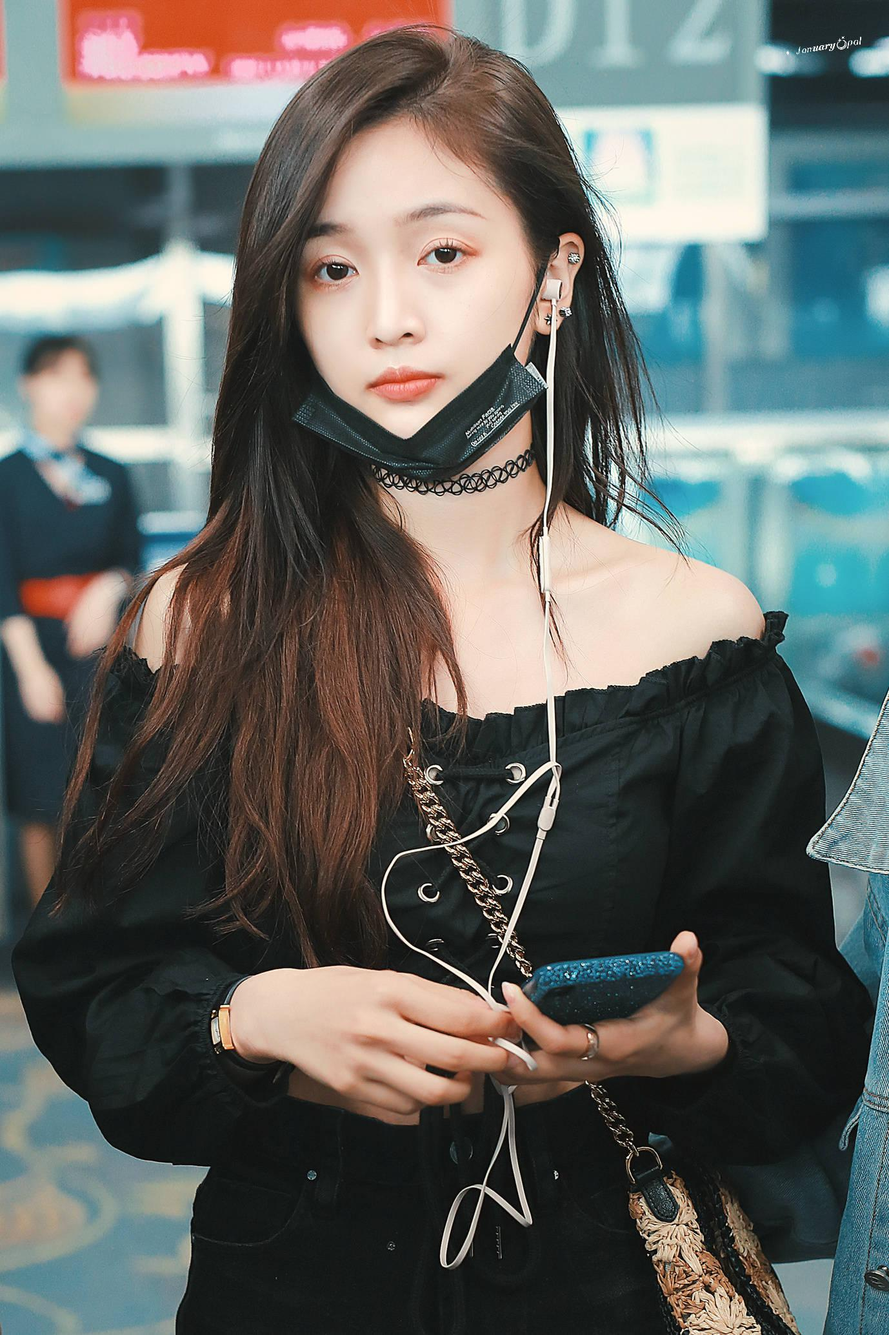NONE: (41, 355, 99, 425)
WRONG: (285, 157, 530, 458)
